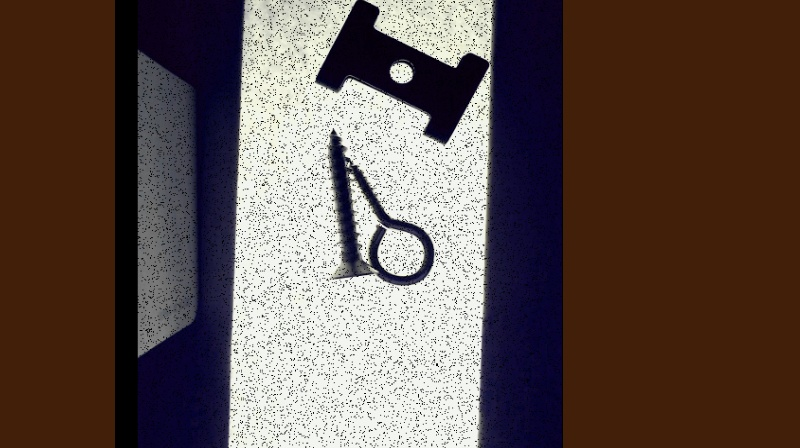O001: (348, 159, 434, 286)
O002: (313, 0, 487, 145)
S001: (325, 128, 377, 280)
